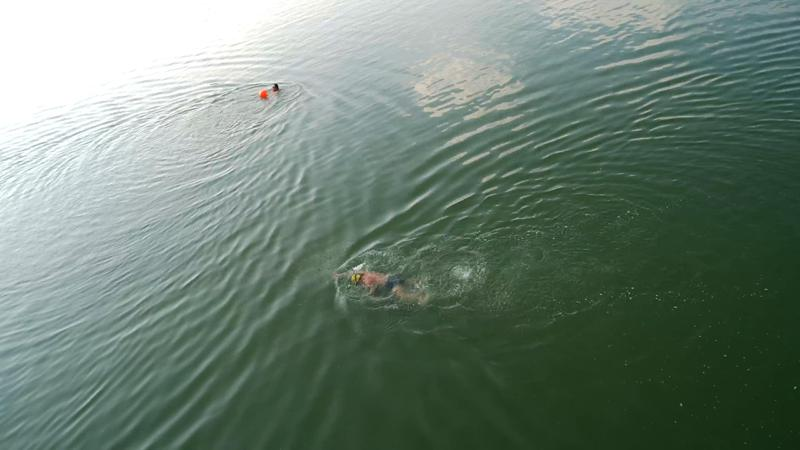swimmers: (343, 271, 426, 302)
